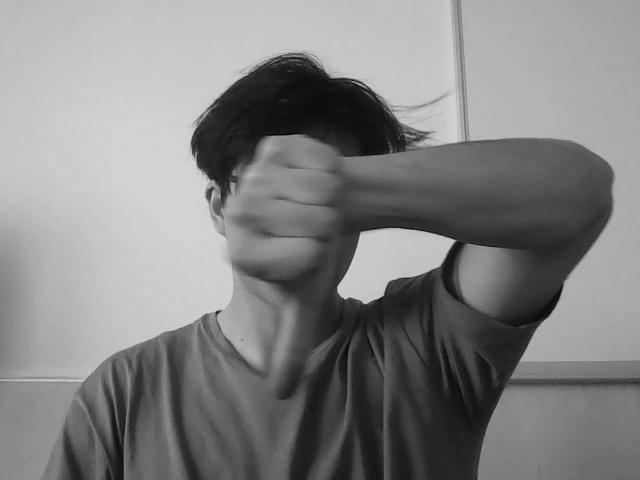bad: (216, 135, 350, 387)
